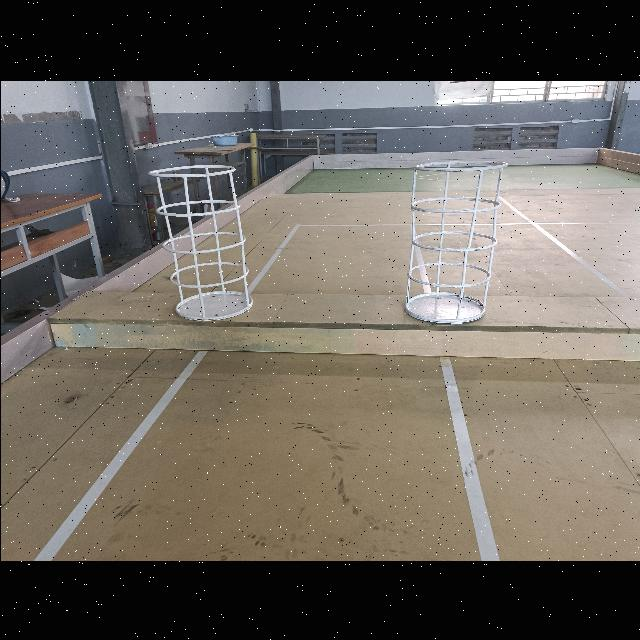S: (399, 157, 509, 325), (145, 161, 255, 322)
